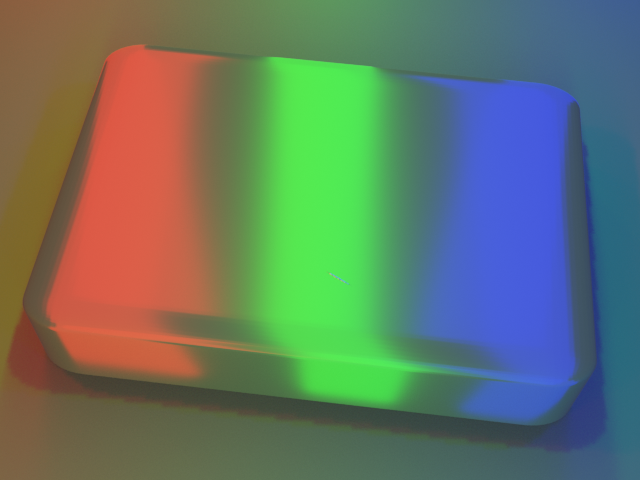scratch: (295, 257, 384, 309)
